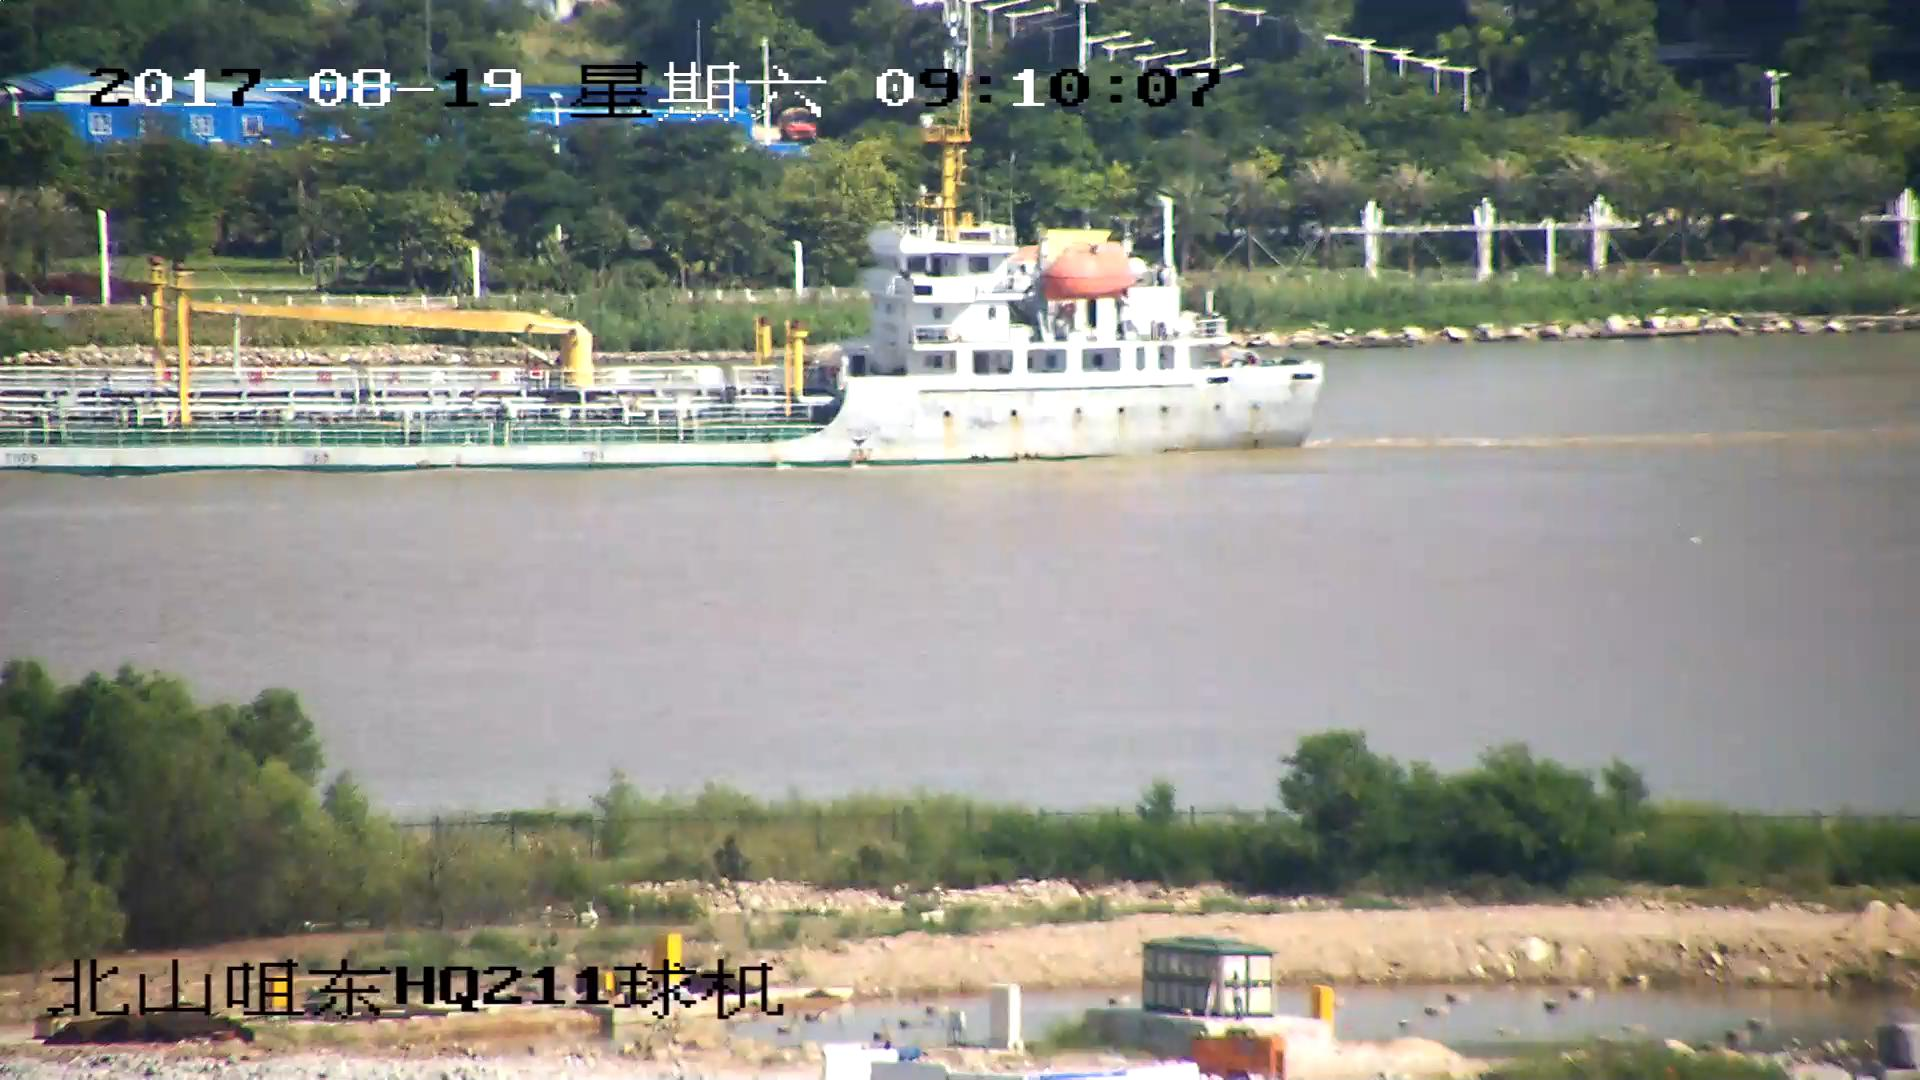general cargo ship: (1, 134, 1331, 464)
